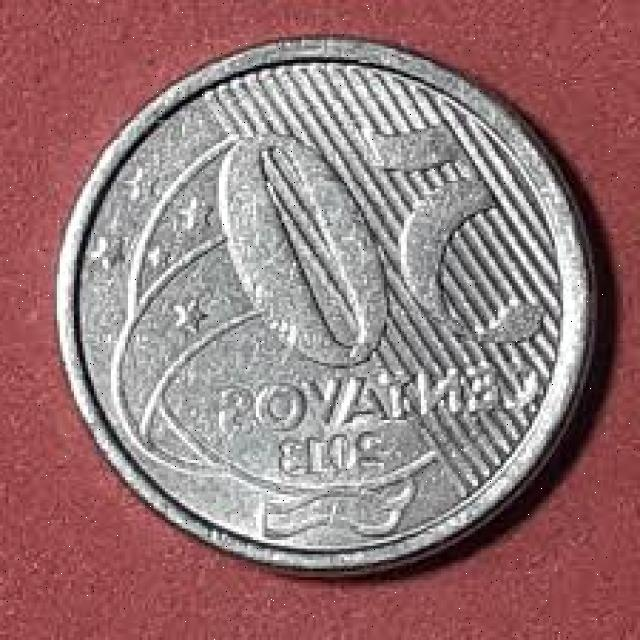50 cent: (64, 38, 592, 574)
